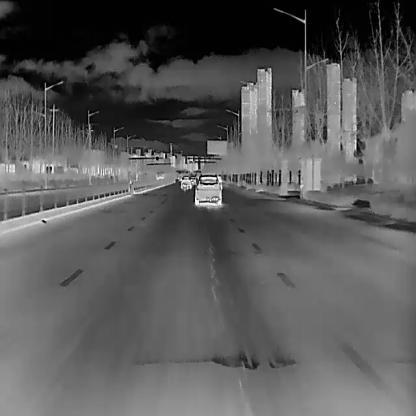car: (194, 172, 221, 206), (179, 174, 191, 189), (155, 170, 166, 180)
